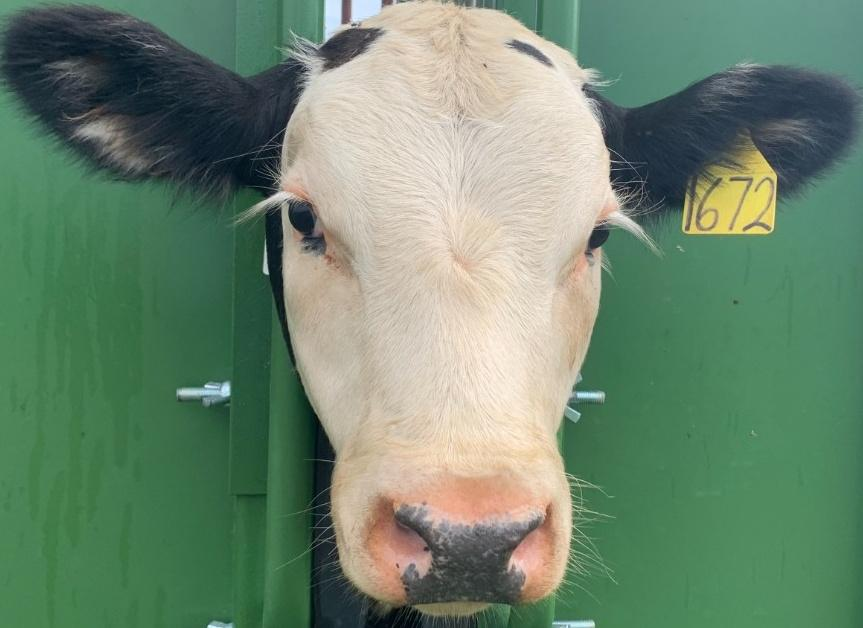muzzles: (314, 444, 598, 628)
